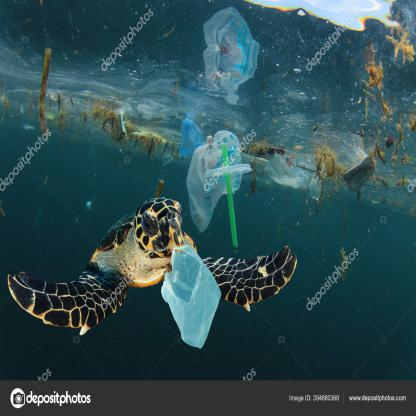plastic-bag: (163, 245, 222, 350), (188, 129, 245, 233), (206, 8, 260, 101)
waste: (268, 153, 324, 198), (343, 154, 376, 192), (41, 49, 50, 138)
